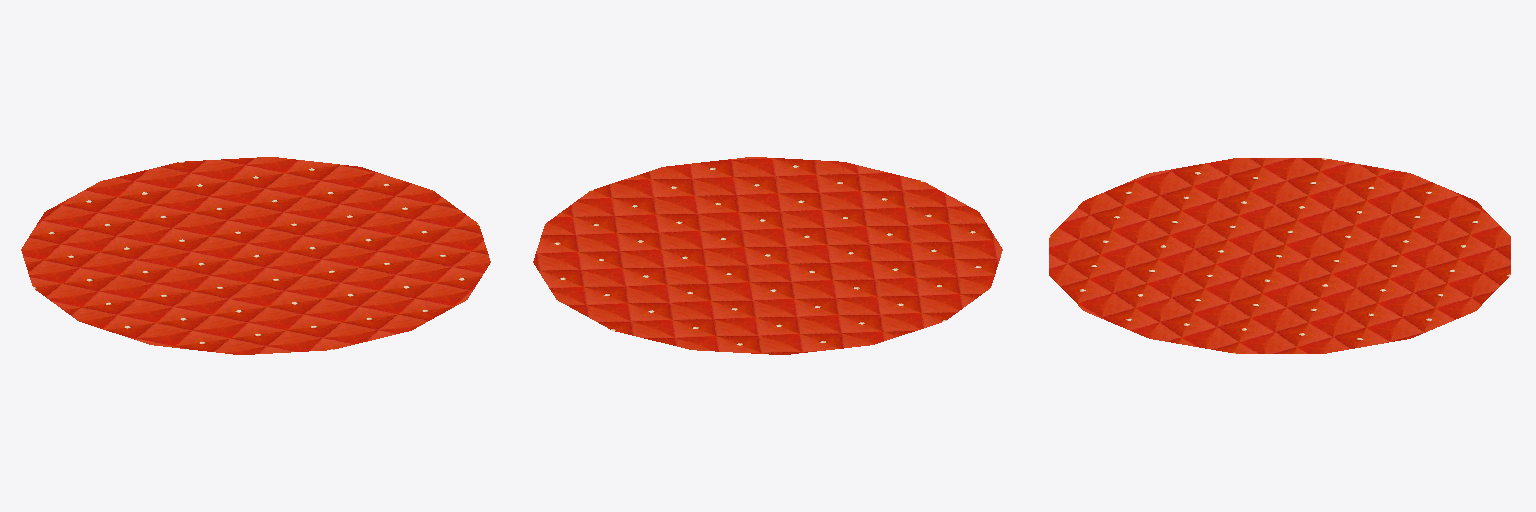
3 views of the same model, side by side, from view 1: azimuth 30°, elevation 25°; view 2: azimuth 150°, elevation 25°; view 3: azimuth 270°, elevation 25° (orthographic).
Size of the model in its own units: 378 by 0.0001 by 378.
Materials: 1 (1 with a texture image).